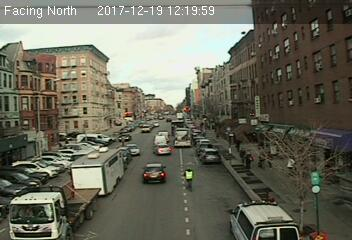bicycle: (181, 167, 195, 193)
car: (142, 163, 167, 183), (201, 148, 219, 162), (154, 143, 171, 154), (126, 143, 141, 155), (117, 134, 132, 142)
pedestrian: (258, 153, 265, 170)
police: (227, 197, 304, 238)
truck: (6, 186, 97, 240), (70, 150, 125, 193)
